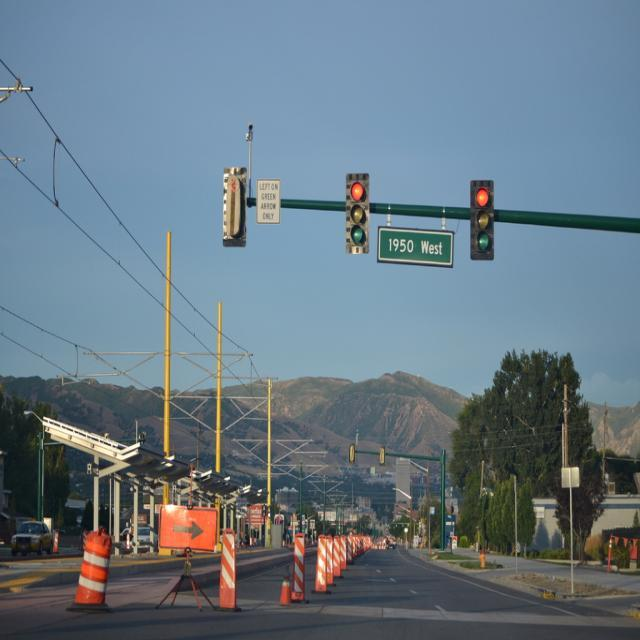traffic light: (346, 174, 370, 251), (472, 180, 495, 258)
